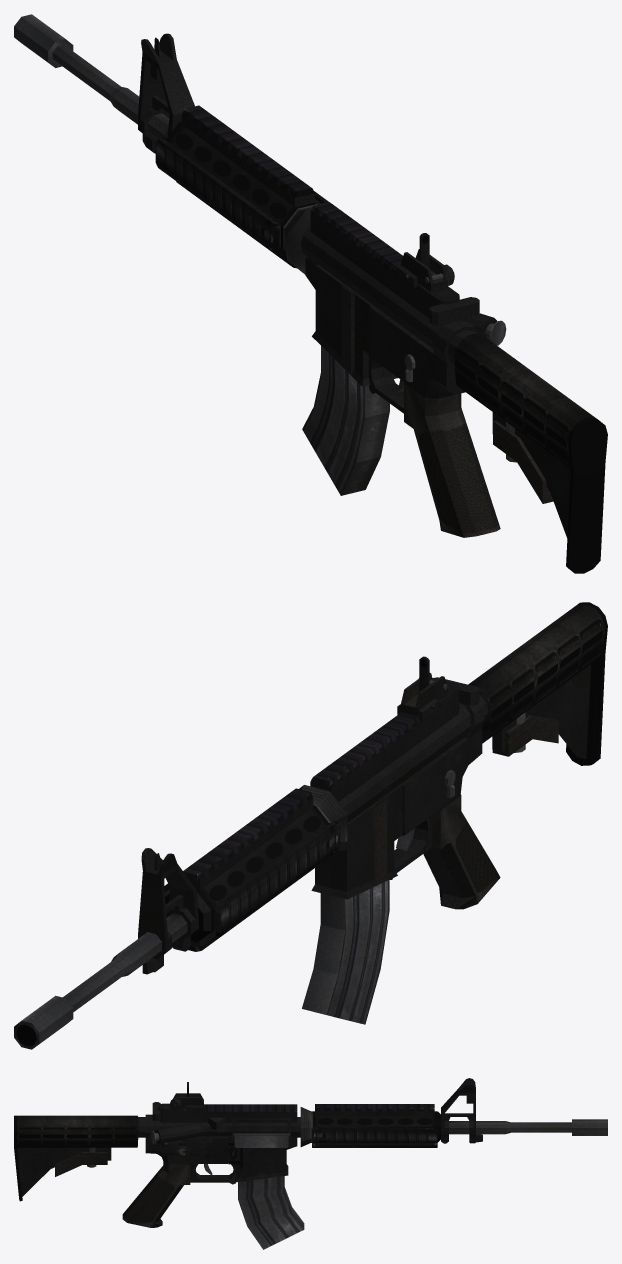
3 views of the same model, one above another, from view 1: azimuth 30°, elevation 25°; view 2: azimuth 150°, elevation 25°; view 3: azimuth 270°, elevation 25° (orthographic). The views are drawn at different scales.
Parts seen in each view (by area): view 1: Cylinder; view 2: Cylinder; view 3: Cylinder.
Part boxes in pixels (<box>): Cylinder: <box>14,14,607,573</box>; Cylinder: <box>14,602,607,1049</box>; Cylinder: <box>14,1078,607,1249</box>.
Bounding box in the file's own units: 72.44 × 259 × 845.
Materials: 1 (1 with a texture image).
